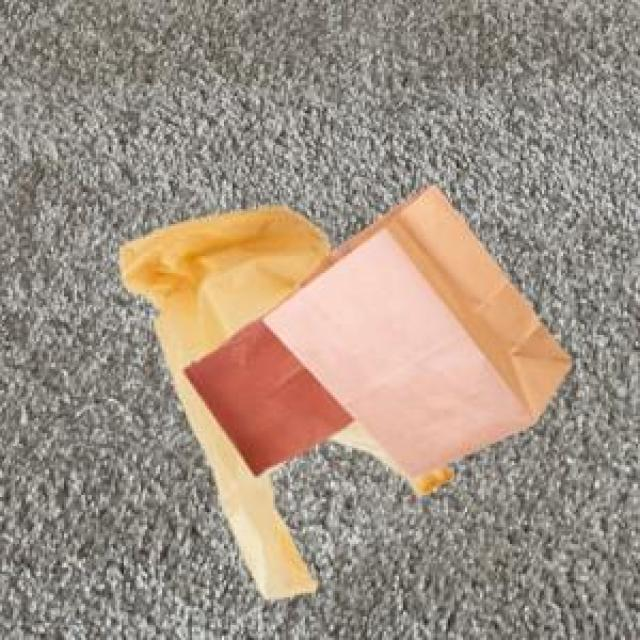paper: (260, 181, 568, 476)
